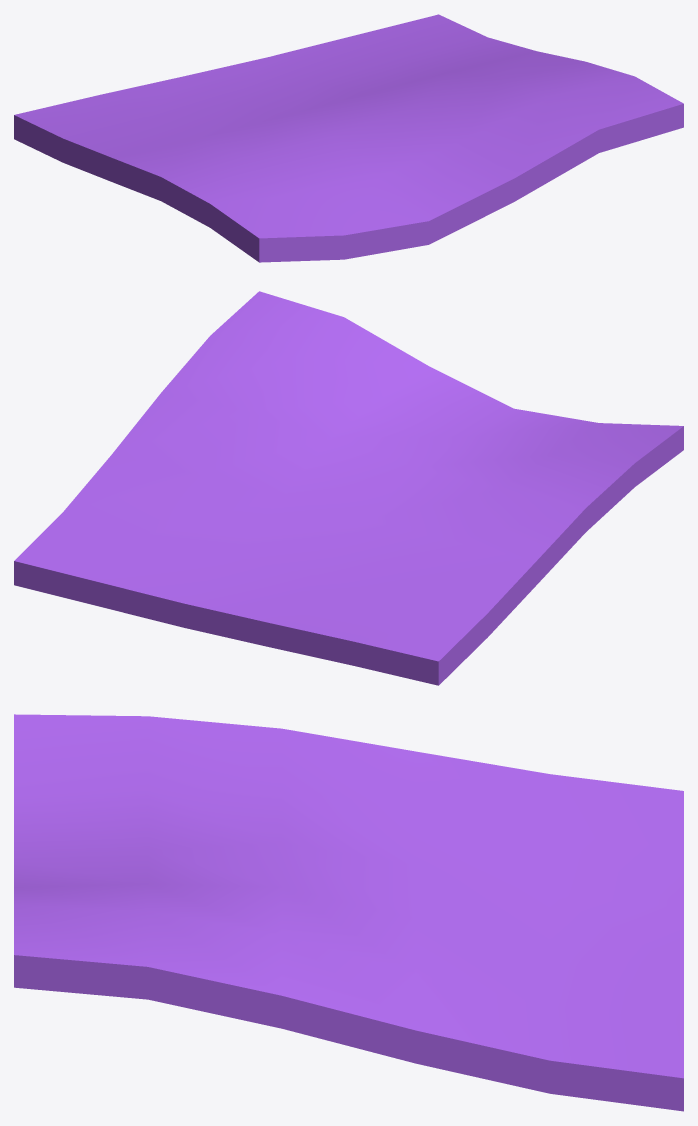
Rendered from post-square-2.fbx.
The picture shows the model from 3 angles, top to bottom: view 1: azimuth 30°, elevation 25°; view 2: azimuth 150°, elevation 25°; view 3: azimuth 270°, elevation 25°; orthographic projection. The views are drawn at different scales.
Visible parts, largest first — view 1: Cube.001; view 2: Cube.001; view 3: Cube.001.
Boxes of the visible parts, x1,y1,x2,y2 form: Cube.001: (14, 14, 683, 262); Cube.001: (14, 291, 683, 685); Cube.001: (14, 714, 683, 1111).
Bounding box in the file's own units: 200 × 52.03 × 200.
